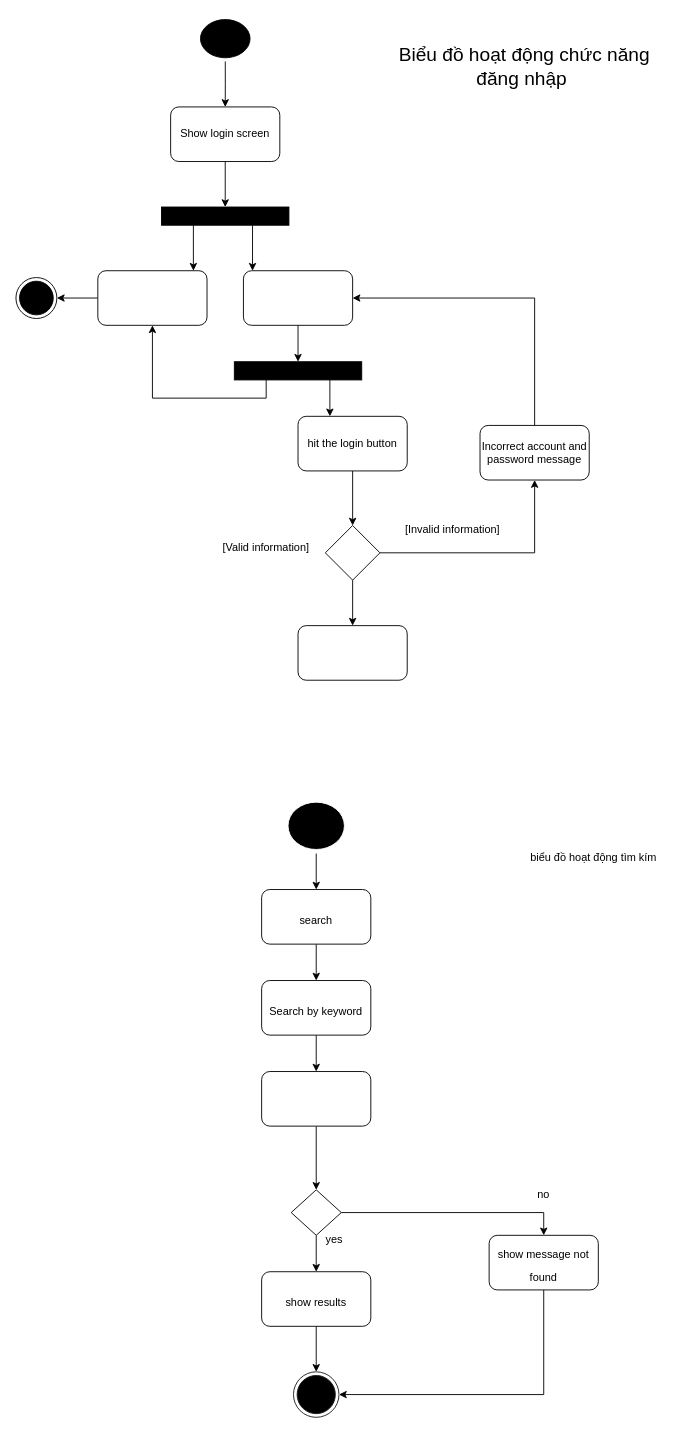
The diagram is 685 pixels wide and 1433 high, and some of its shapes have lost their labels. The shapes that lost their labels are listed below. From the top down, each one's centre as x and y in pixels, then its label:
At point (152, 297): "exit the login screen".
At point (298, 297): "account entry, unlock password".
At point (352, 652): "Go to homepage".
At point (316, 1098): "Enter keywords".
